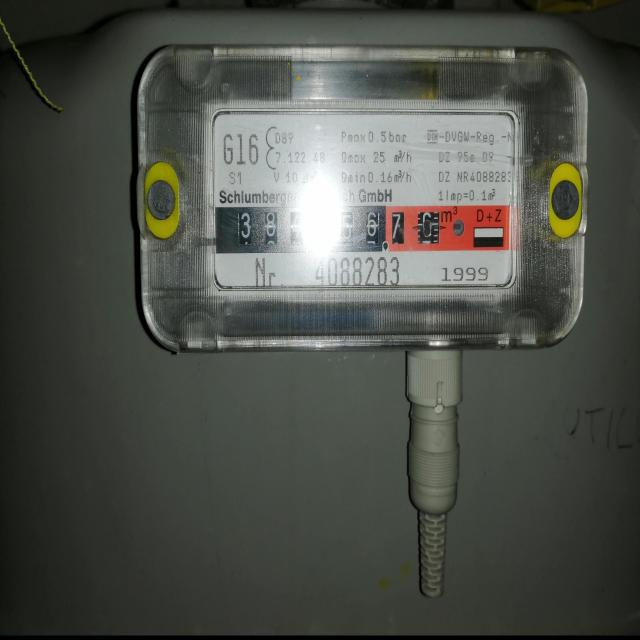gaz_meter: (213, 105, 515, 289)
indication: (215, 206, 442, 254)
